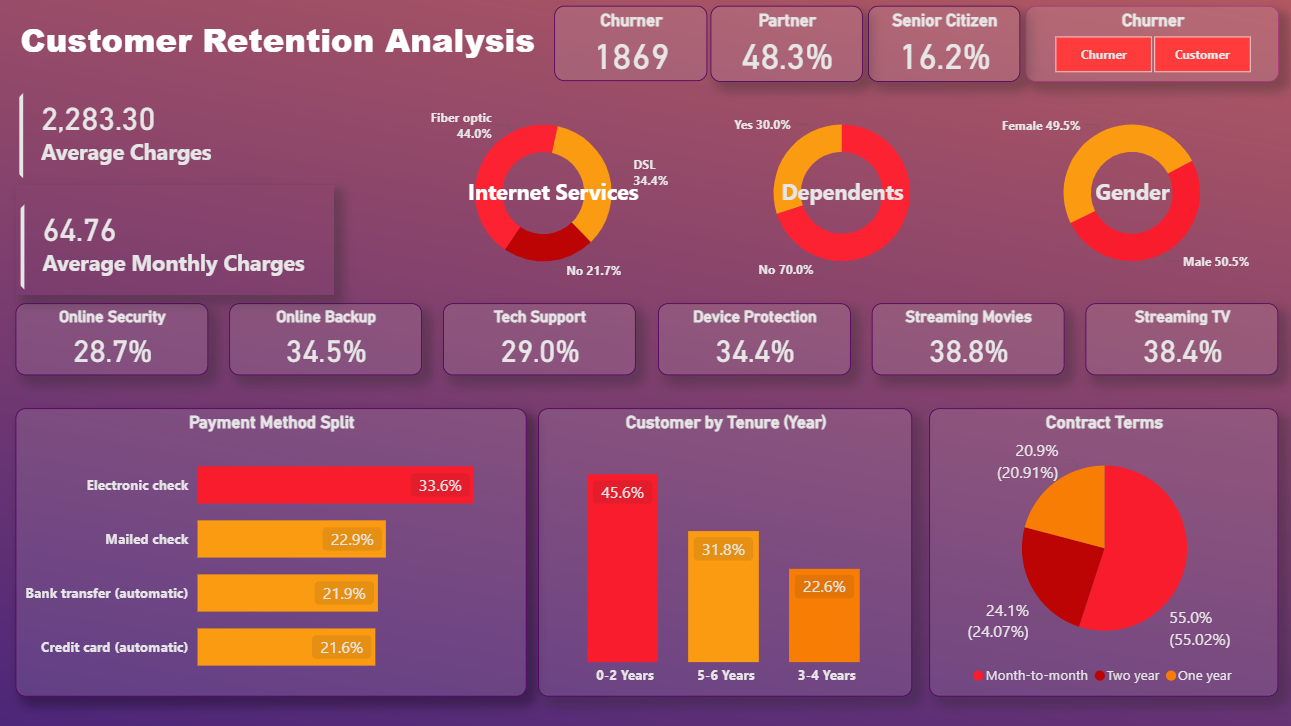

Layout of this report page (visuals, bound fields, positions):
{"tool":"powerbi","page":{"name":"Page 1","canvas":[1280,720],"ordinal":0},"visuals":[{"type":"card","title":"Churner","fields":{"Values":["Sum(01 Churn-Dataset.Churner)"]},"box":[548.9,8.4,150.8,74.8],"z":0},{"type":"card","title":"Partner","fields":{"Values":["01 Churn-Dataset.partner percentage"]},"box":[704.2,8.9,150.1,75.1],"z":1000},{"type":"card","title":"Senior Citizen","fields":{"Values":["01 Churn-Dataset.senior citizen %"]},"box":[859.5,8.9,150.1,75.1],"z":2000},{"type":"slicer","title":"Churner","fields":{"Values":["01 Churn-Dataset.Churn"]},"box":[1014.7,8.3,250.2,75.1],"z":3000},{"type":"textbox","box":[16.9,14.5,522.4,60.3],"z":4000},{"type":"cardVisual","fields":{"Data":["Avg(01 Churn-Dataset.TotalCharges)"]},"box":[16,75.1,244.6,109.8],"z":5000},{"type":"cardVisual","fields":{"Data":["Avg(01 Churn-Dataset.MonthlyCharges)"]},"box":[16.7,184.9,314.1,109.8],"z":6000},{"type":"card","title":"Streaming TV","fields":{"Values":["01 Churn-Dataset.Streaming TV %"]},"box":[1074.4,303,190.4,70.9],"z":7000},{"type":"card","title":"Streaming Movies","fields":{"Values":["01 Churn-Dataset.Streaming Movies %"]},"box":[862.9,303,190,70.9],"z":8000},{"type":"card","title":"Device Protection","fields":{"Values":["01 Churn-Dataset.Device Protection %"]},"box":[651.3,303,190,70.9],"z":9000},{"type":"card","title":"Tech Support","fields":{"Values":["01 Churn-Dataset.Tech Support %"]},"box":[439.8,303,190,70.9],"z":10000},{"type":"card","title":"Online Backup","fields":{"Values":["01 Churn-Dataset.Online Backup %"]},"box":[228.2,303,190,70.9],"z":11000},{"type":"card","title":"Online Security","fields":{"Values":["01 Churn-Dataset.Online security %"]},"box":[16.7,303,190,70.9],"z":12000},{"type":"donutChart","fields":{"Category":["01 Churn-Dataset.InternetService"],"Y":["CountNonNull(01 Churn-Dataset.InternetService)"]},"box":[403.9,95.9,270,195],"z":13000},{"type":"textbox","box":[444,172.5,207.5,41],"z":14000},{"type":"donutChart","fields":{"Category":["01 Churn-Dataset.Dependents"],"Y":["CountNonNull(01 Churn-Dataset.Dependents)"]},"box":[699.2,95.9,269.7,194.6],"z":15000},{"type":"textbox","box":[739.5,172.4,189,41.7],"z":16000},{"type":"donutChart","fields":{"Category":["01 Churn-Dataset.gender"],"Y":["CountNonNull(01 Churn-Dataset.gender)"]},"box":[985.5,95.9,269.7,194.6],"z":17000},{"type":"textbox","box":[1025.8,172.4,189,41.7],"z":18000},{"type":"barChart","title":"Payment Method Split","fields":{"Category":["01 Churn-Dataset.PaymentMethod"],"Y":["Divide(CountNonNull(01 Churn-Dataset.Churn), ScopedEval(CountNonNull(01 Churn-Dataset.Churn), []))"]},"box":[16.7,405.9,505,284.9],"z":19000},{"type":"columnChart","title":"Customer by Tenure (Year)","fields":{"Category":["01 Churn-Dataset.Year Group"],"Y":["Divide(CountNonNull(01 Churn-Dataset.Churn), ScopedEval(CountNonNull(01 Churn-Dataset.Churn), []))"]},"box":[533.6,405.9,369.7,284.9],"z":20000},{"type":"pieChart","title":"Contract Terms","fields":{"Category":["01 Churn-Dataset.Contract"],"Y":["Divide(CountNonNull(01 Churn-Dataset.Contract), ScopedEval(CountNonNull(01 Churn-Dataset.Contract), []))"]},"box":[920.2,405.9,344.7,284.9],"z":21000}]}

Visuals, with their boxes in screenshot pixels (x1, y1, x2, y2), scaled from the page's 1280x720 canvas onto the 1291x726 screenshot:
"Churner" card: (left=554, top=8, right=706, bottom=84)
"Partner" card: (left=710, top=9, right=862, bottom=85)
"Senior Citizen" card: (left=867, top=9, right=1018, bottom=85)
"Churner" slicer: (left=1023, top=8, right=1276, bottom=84)
textbox: (left=17, top=15, right=544, bottom=75)
cardVisual - Avg(01 Churn-Dataset.TotalCharges): (left=16, top=76, right=263, bottom=186)
cardVisual - Avg(01 Churn-Dataset.MonthlyCharges): (left=17, top=186, right=334, bottom=297)
"Streaming TV" card: (left=1084, top=306, right=1276, bottom=377)
"Streaming Movies" card: (left=870, top=306, right=1062, bottom=377)
"Device Protection" card: (left=657, top=306, right=849, bottom=377)
"Tech Support" card: (left=444, top=306, right=635, bottom=377)
"Online Backup" card: (left=230, top=306, right=422, bottom=377)
"Online Security" card: (left=17, top=306, right=208, bottom=377)
donutChart - 01 Churn-Dataset.InternetService x CountNonNull(01 Churn-Dataset.InternetService): (left=407, top=97, right=680, bottom=293)
textbox: (left=448, top=174, right=657, bottom=215)
donutChart - 01 Churn-Dataset.Dependents x CountNonNull(01 Churn-Dataset.Dependents): (left=705, top=97, right=977, bottom=293)
textbox: (left=746, top=174, right=936, bottom=216)
donutChart - 01 Churn-Dataset.gender x CountNonNull(01 Churn-Dataset.gender): (left=994, top=97, right=1266, bottom=293)
textbox: (left=1035, top=174, right=1225, bottom=216)
"Payment Method Split" barChart: (left=17, top=409, right=526, bottom=697)
"Customer by Tenure (Year)" columnChart: (left=538, top=409, right=911, bottom=697)
"Contract Terms" pieChart: (left=928, top=409, right=1276, bottom=697)
